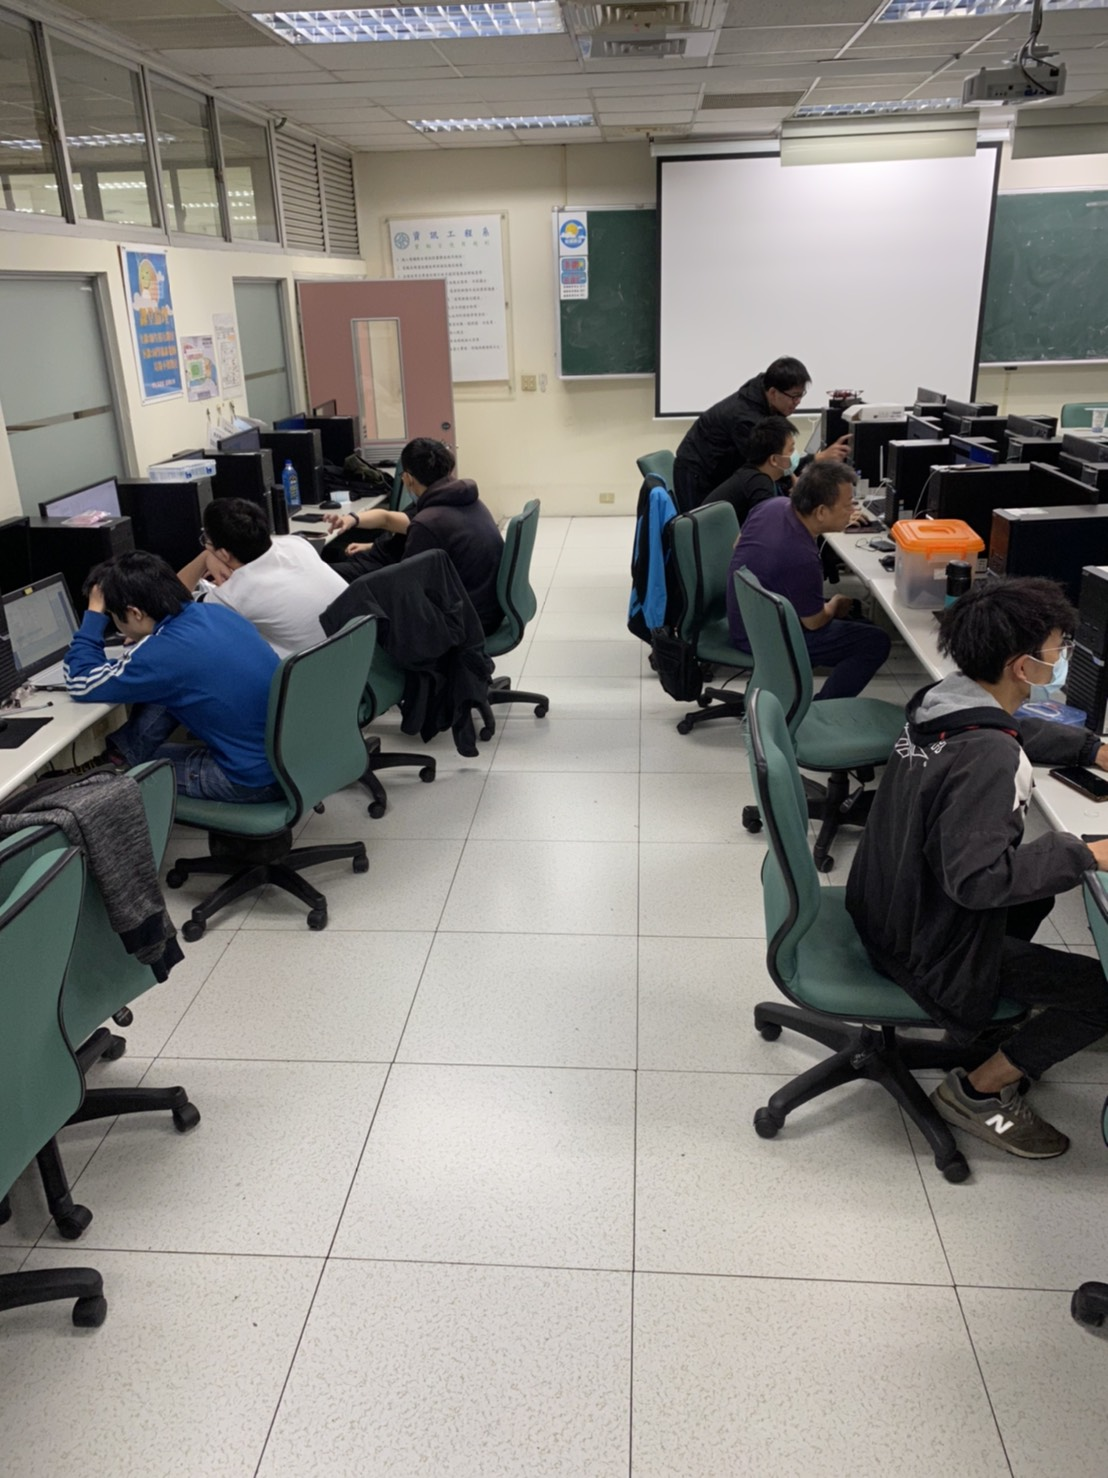people: (921, 585, 1102, 1157), (88, 559, 293, 800), (736, 471, 895, 652), (209, 514, 357, 697), (395, 457, 517, 657), (678, 373, 809, 464)
